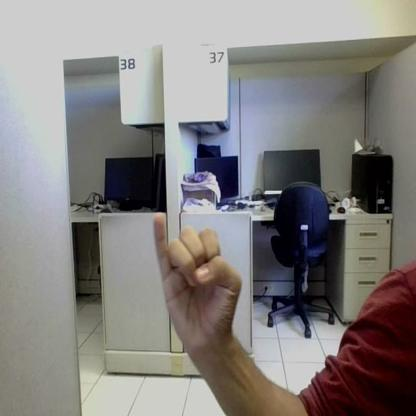I: (154, 214, 240, 342)
